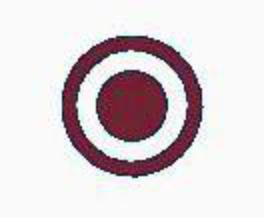RadioButton: (1, 1, 263, 217)
